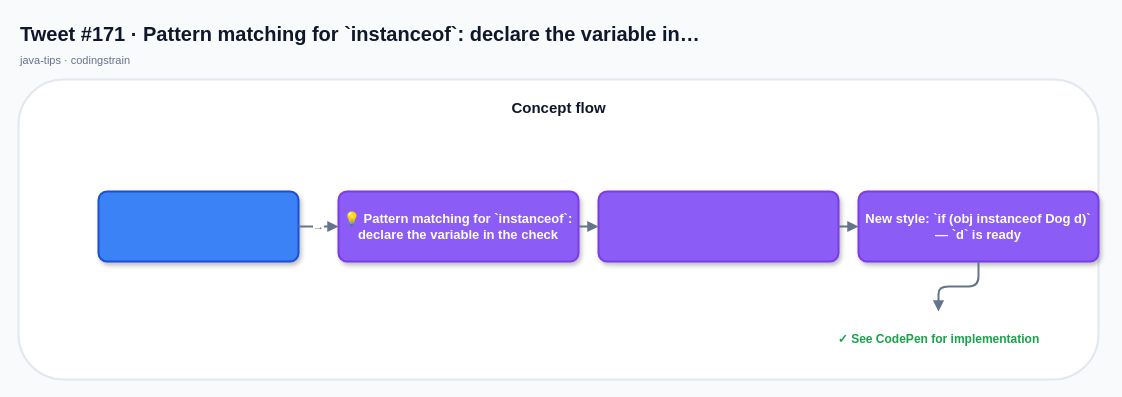
This 1122x397 diagram has some shape labels left out. The centre of each missing label's shape, as x and y in pixels:
Old style: `instanceof` then a separate cast: pixel 719 227
Problem / context: pixel 199 227
